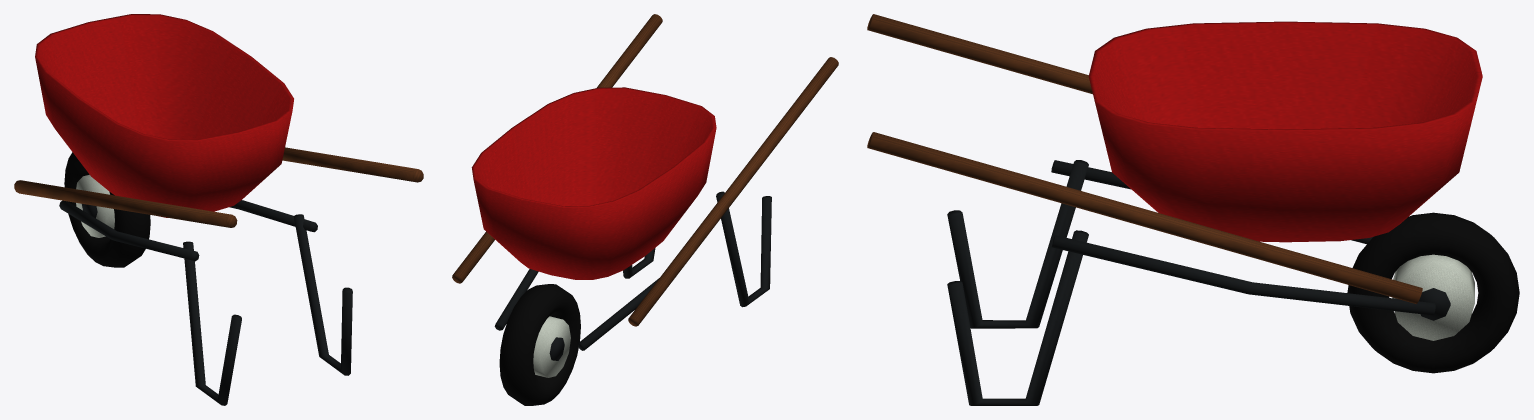
File: SingleWheelbarrowFlatFree.gltf
3 views of the same model, side by side, from view 1: azimuth 30°, elevation 25°; view 2: azimuth 150°, elevation 25°; view 3: azimuth 270°, elevation 25° (orthographic). The views are drawn at different scales.
Visible parts, largest first — view 1: SingleWheelbarrowFlatFree__Body, SingleWheelbarrowFlatFree__Wheel_Front; view 2: SingleWheelbarrowFlatFree__Body, SingleWheelbarrowFlatFree__Wheel_Front; view 3: SingleWheelbarrowFlatFree__Body, SingleWheelbarrowFlatFree__Wheel_Front.
Part boxes in pixels (box(x1,y1,x2,y2)): SingleWheelbarrowFlatFree__Body: box(14, 14, 423, 405); SingleWheelbarrowFlatFree__Wheel_Front: box(64, 152, 150, 267); SingleWheelbarrowFlatFree__Body: box(452, 14, 838, 350); SingleWheelbarrowFlatFree__Wheel_Front: box(499, 284, 580, 405); SingleWheelbarrowFlatFree__Body: box(867, 14, 1482, 405); SingleWheelbarrowFlatFree__Wheel_Front: box(1347, 212, 1519, 373).
Size of the model in its own units: 0.672 by 0.7455 by 1.48.
1 material, 1 textured.
